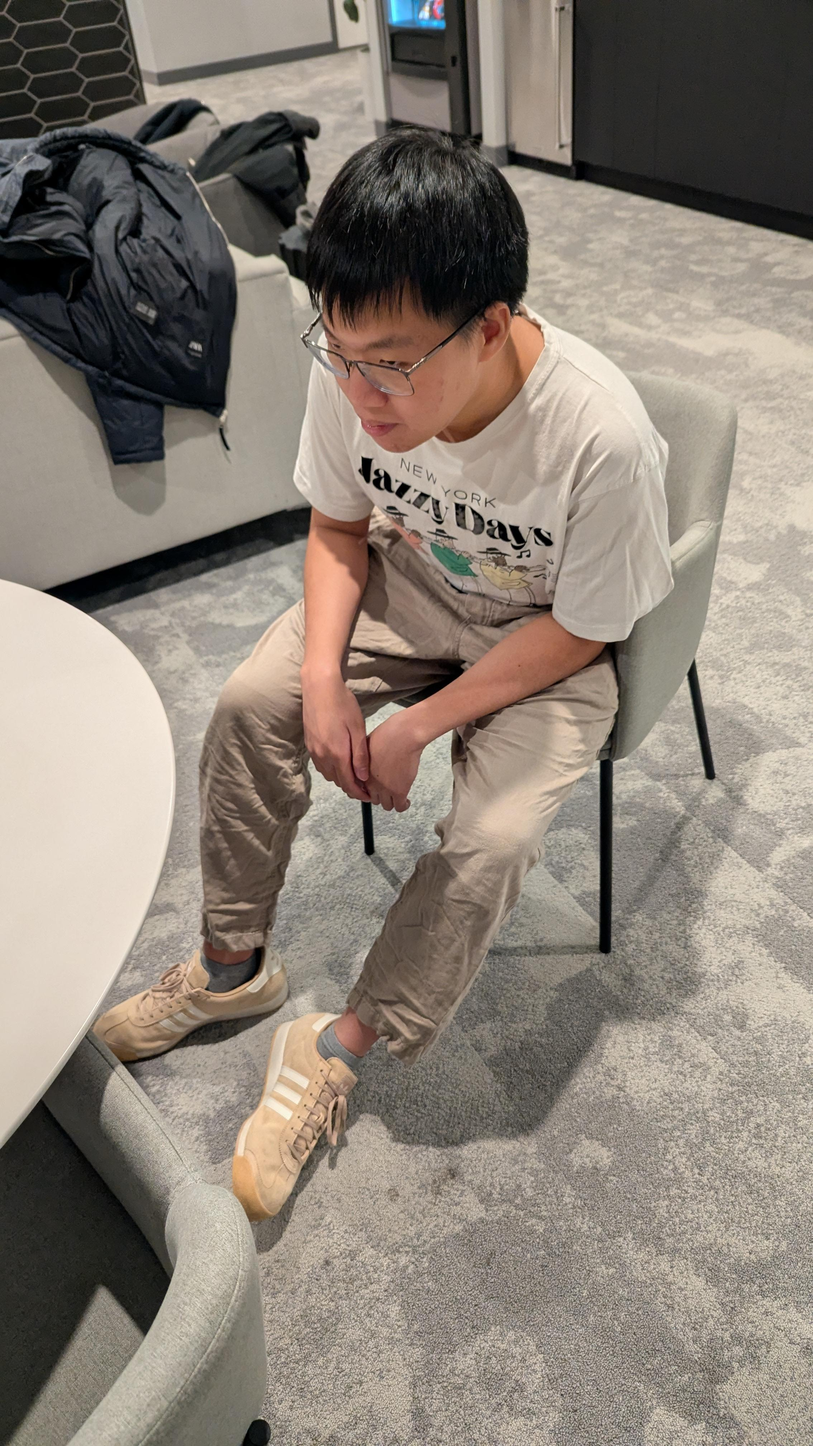BadPosture: (94, 130, 673, 1225)
